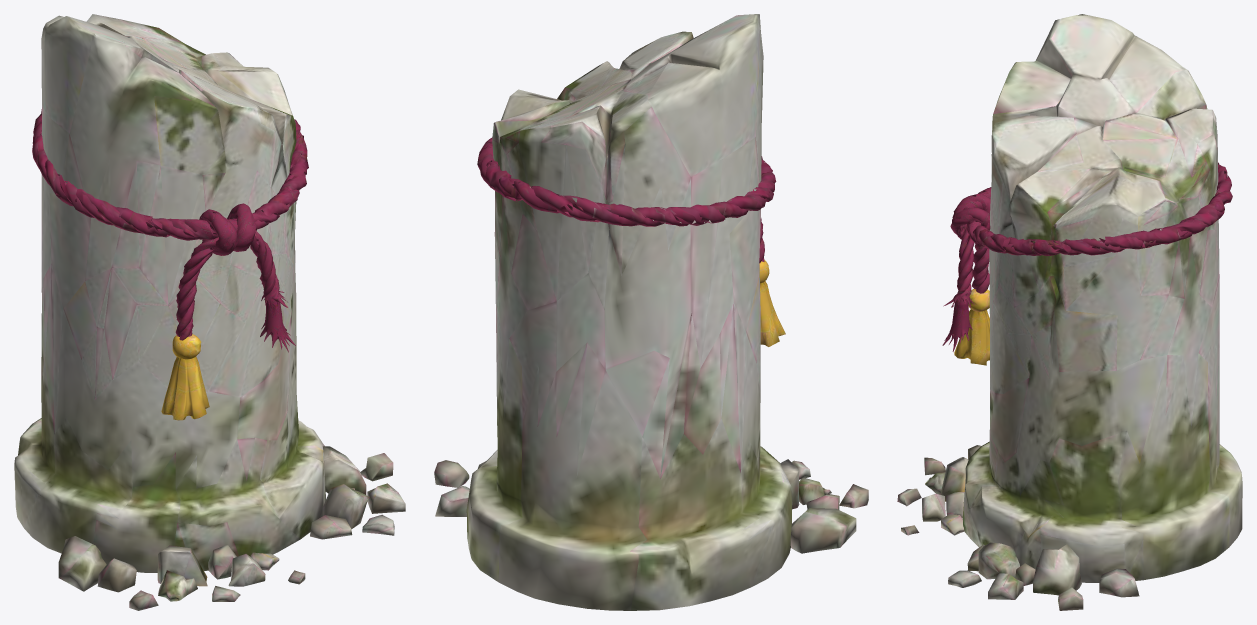
File: pillar_stump_b.glb
The picture shows the model from 3 angles, left to right: view 1: azimuth 30°, elevation 25°; view 2: azimuth 150°, elevation 25°; view 3: azimuth 270°, elevation 25°; orthographic projection. The views are drawn at different scales.
Parts seen in each view (by area): view 1: geometry_0; view 2: geometry_0; view 3: geometry_0.
Part boxes in pixels (x1,y1,x2,y2): geometry_0: [14, 14, 405, 610]; geometry_0: [434, 14, 868, 610]; geometry_0: [897, 14, 1242, 610].
Size of the model in its own units: 0.6895 by 0.9521 by 0.6431.
Materials: 1 (1 with a texture image).
